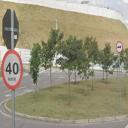speed_limit_40: (2, 49, 23, 90)
